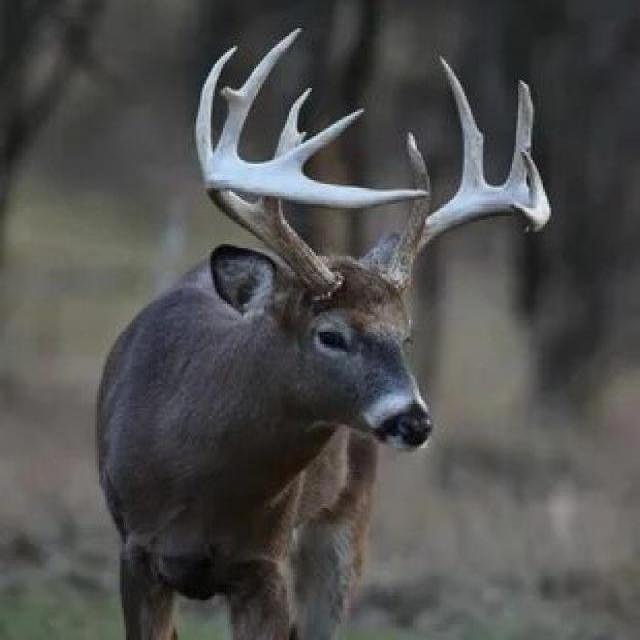deer: (15, 77, 541, 632)
